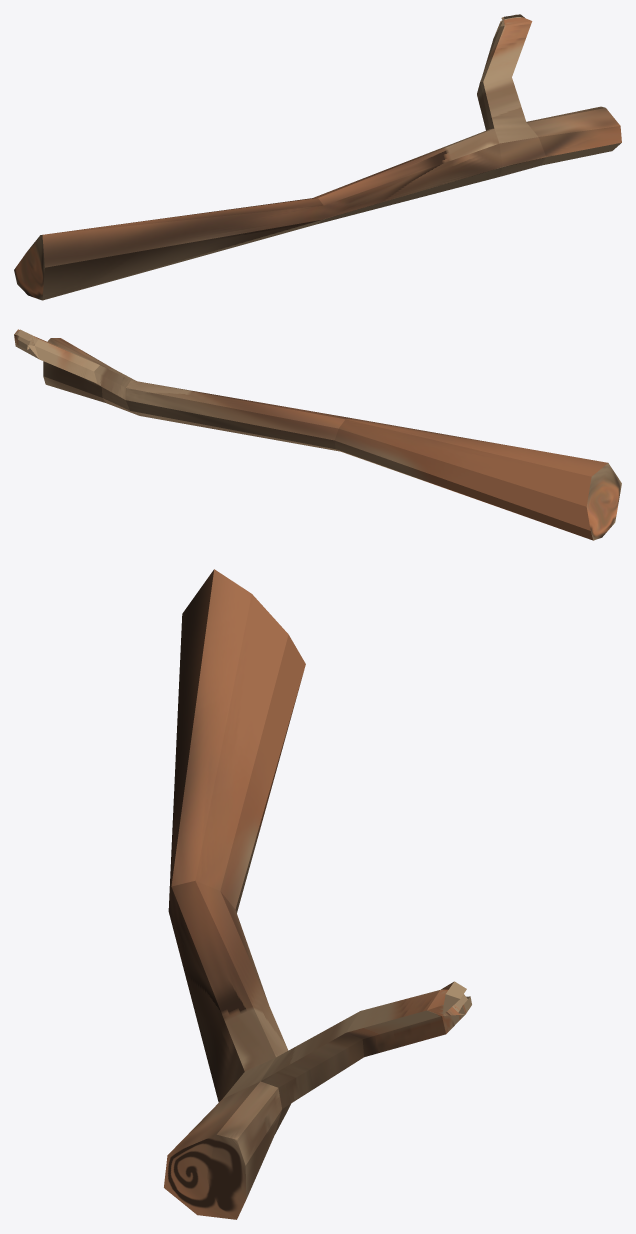
File: wood-block-10.obj
3 views of the same model, one above another, from view 1: azimuth 30°, elevation 25°; view 2: azimuth 150°, elevation 25°; view 3: azimuth 270°, elevation 25° (orthographic). The views are drawn at different scales.
Visible parts, largest first — view 1: wood-block-10; view 2: wood-block-10; view 3: wood-block-10.
Boxes of the visible parts, x1,y1,x2,y2 form: wood-block-10: (14,14,621,300); wood-block-10: (14,329,621,540); wood-block-10: (164,569,471,1219).
Size of the model in its own units: 3.17 by 0.6029 by 0.7489.
